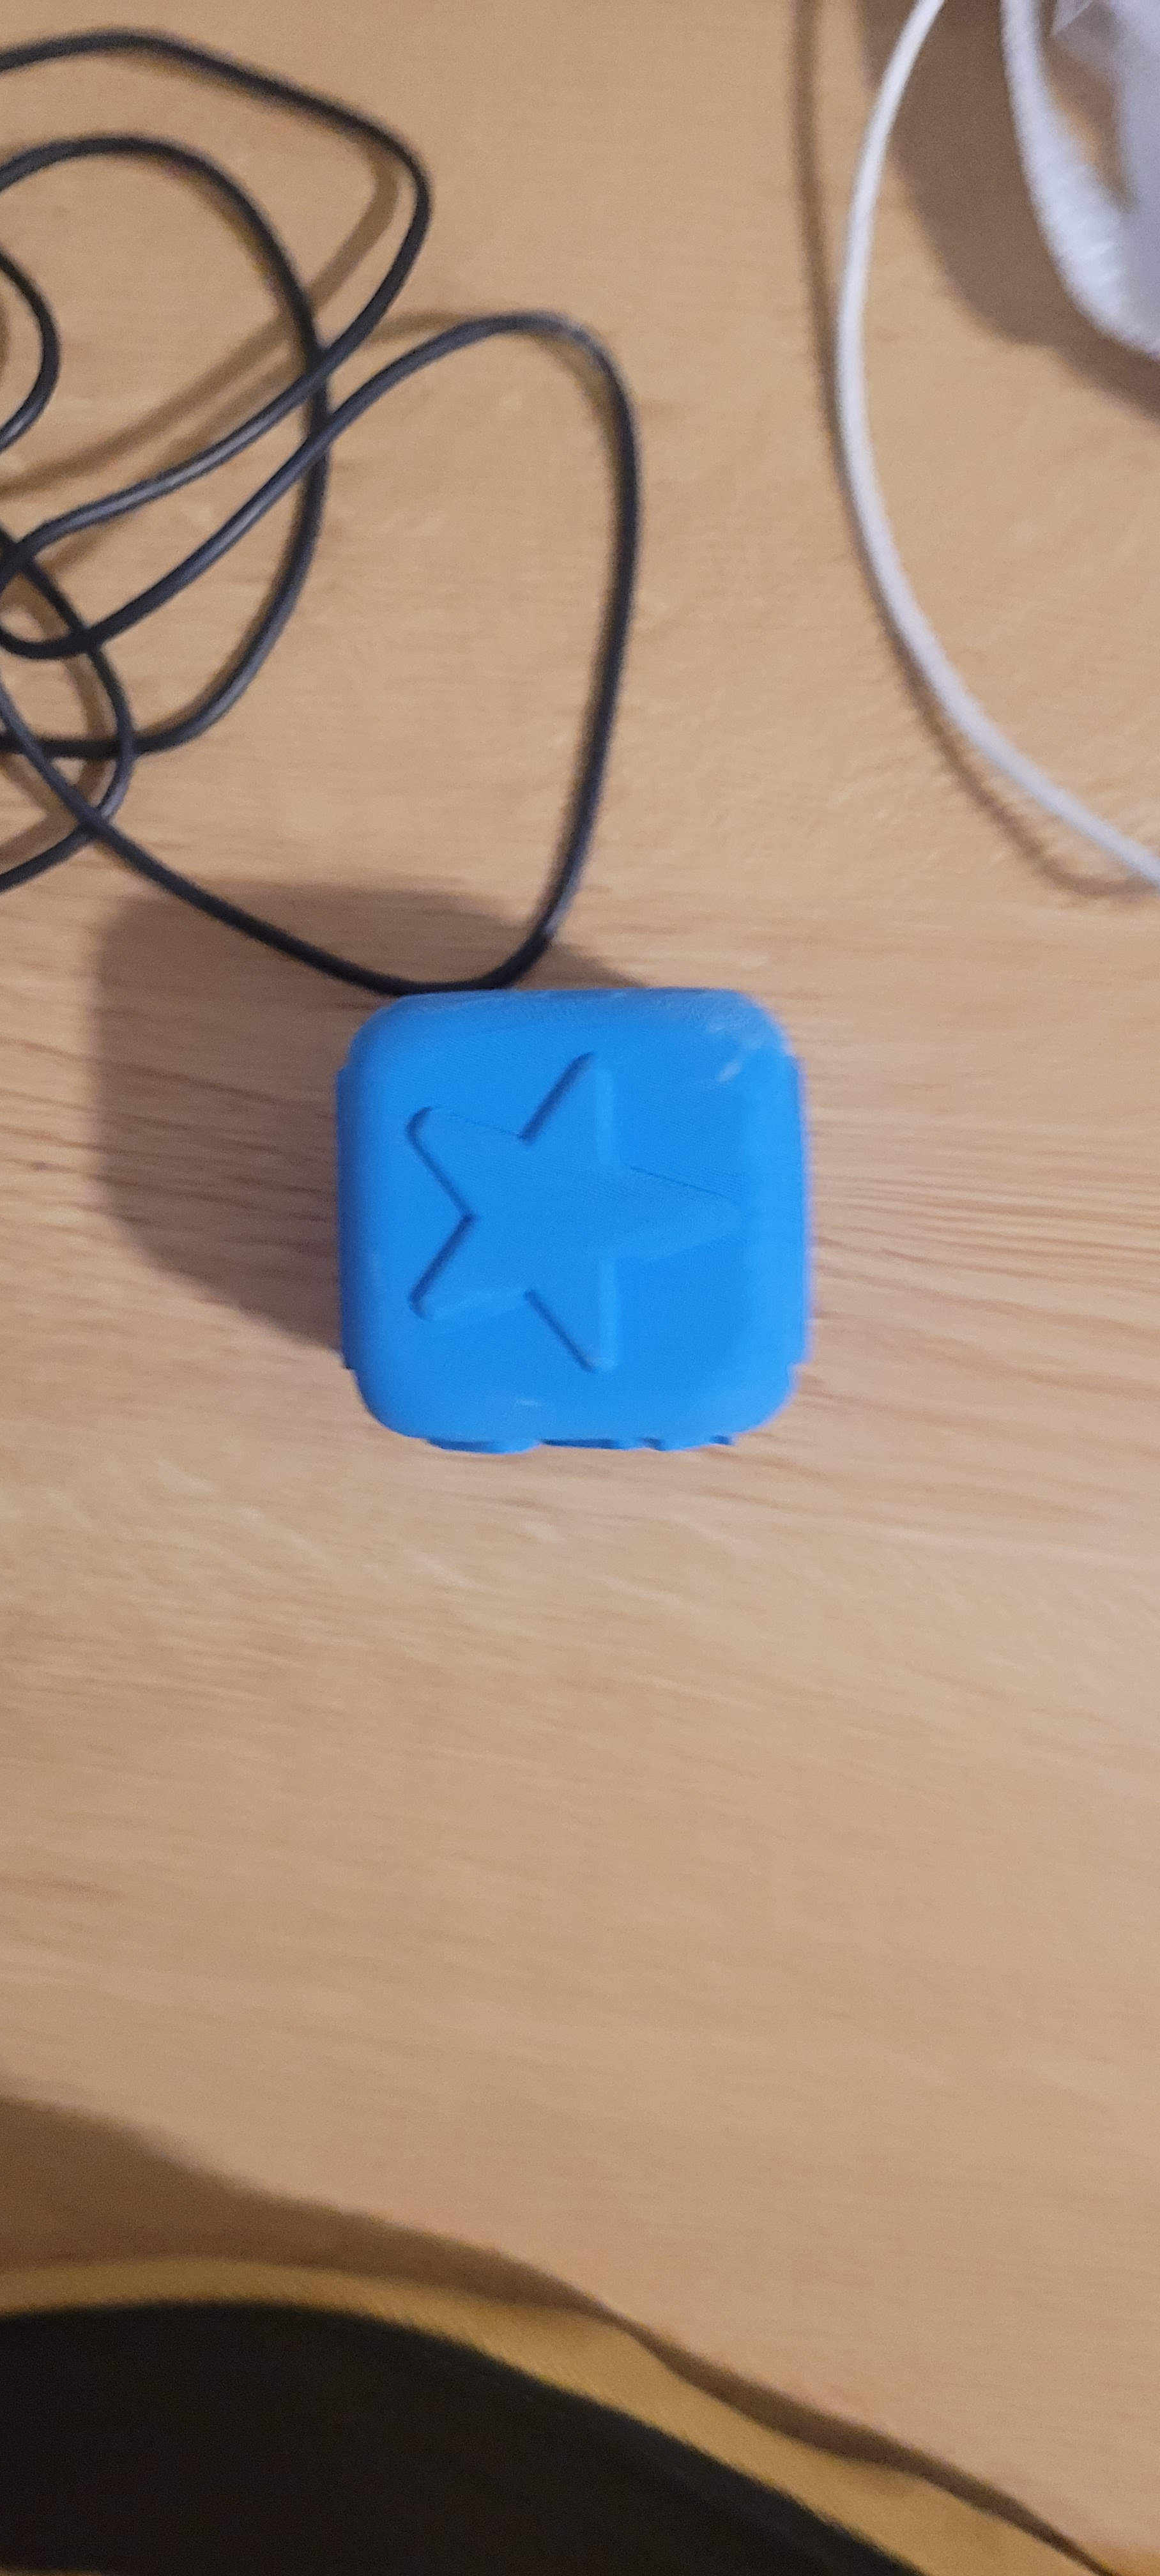Star: (384, 1027, 771, 1411)
